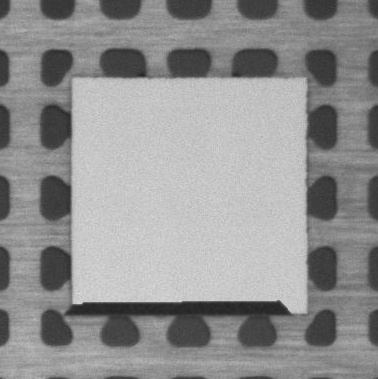DIE_BROKEN: (69, 297, 295, 315)
